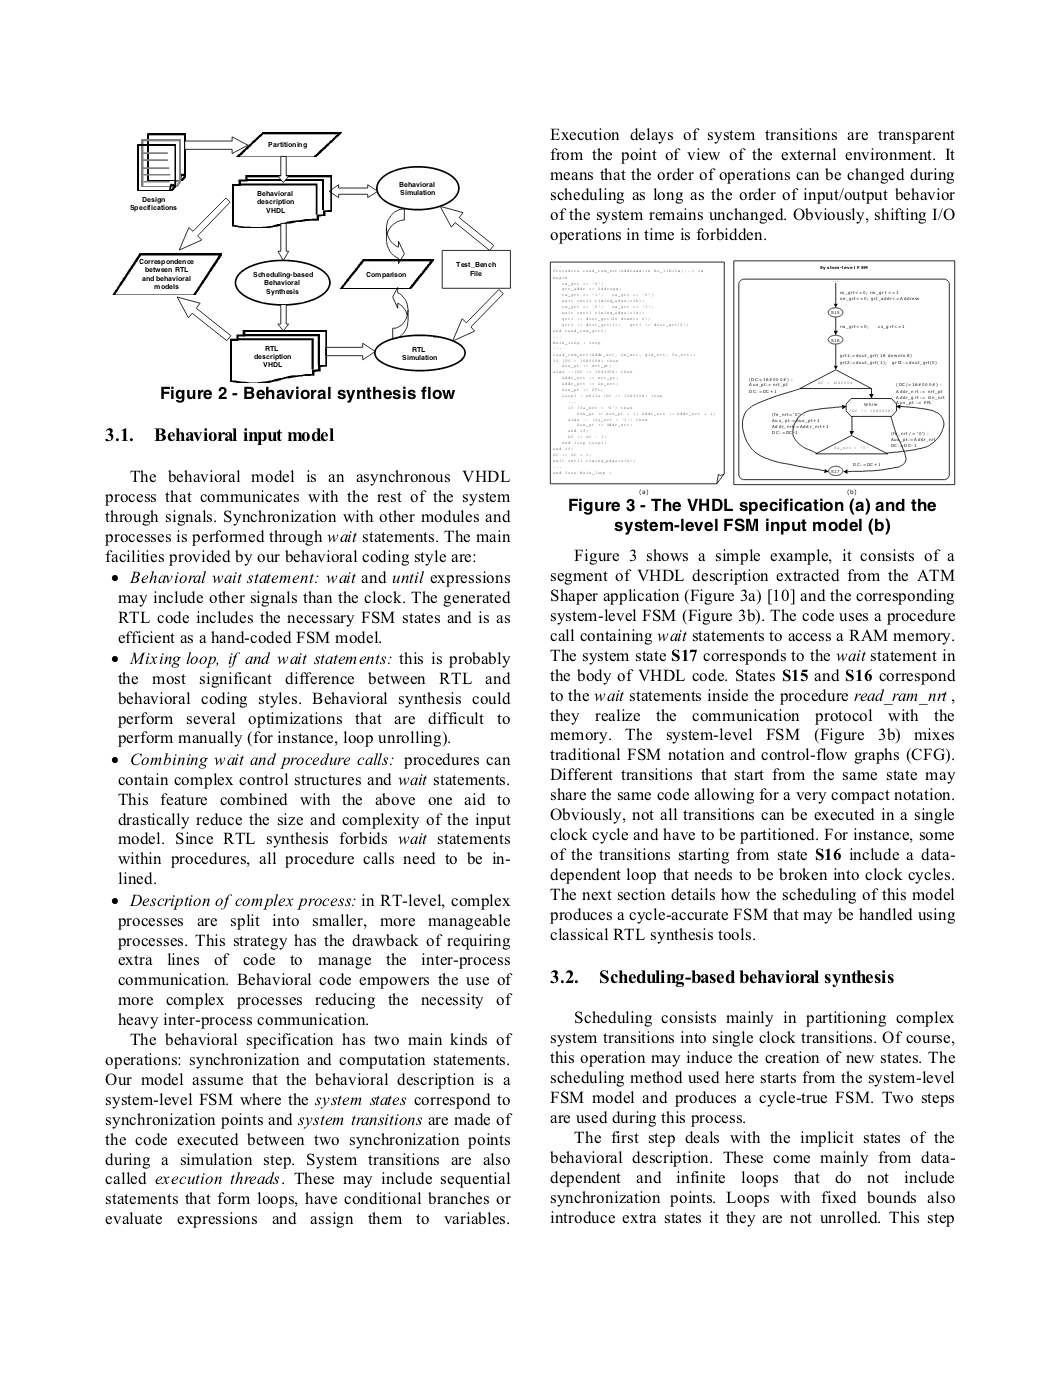figure: (111, 132, 510, 382), (733, 260, 955, 485), (549, 261, 724, 484)
